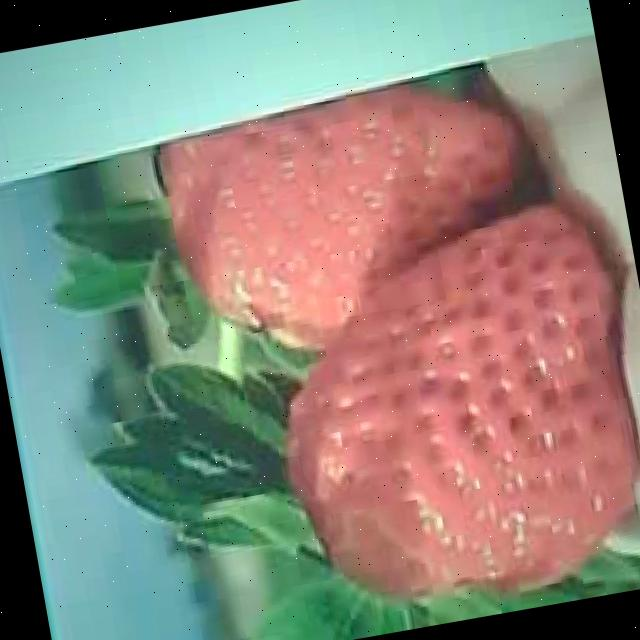strawberry: (246, 195, 640, 627), (148, 60, 550, 367)
